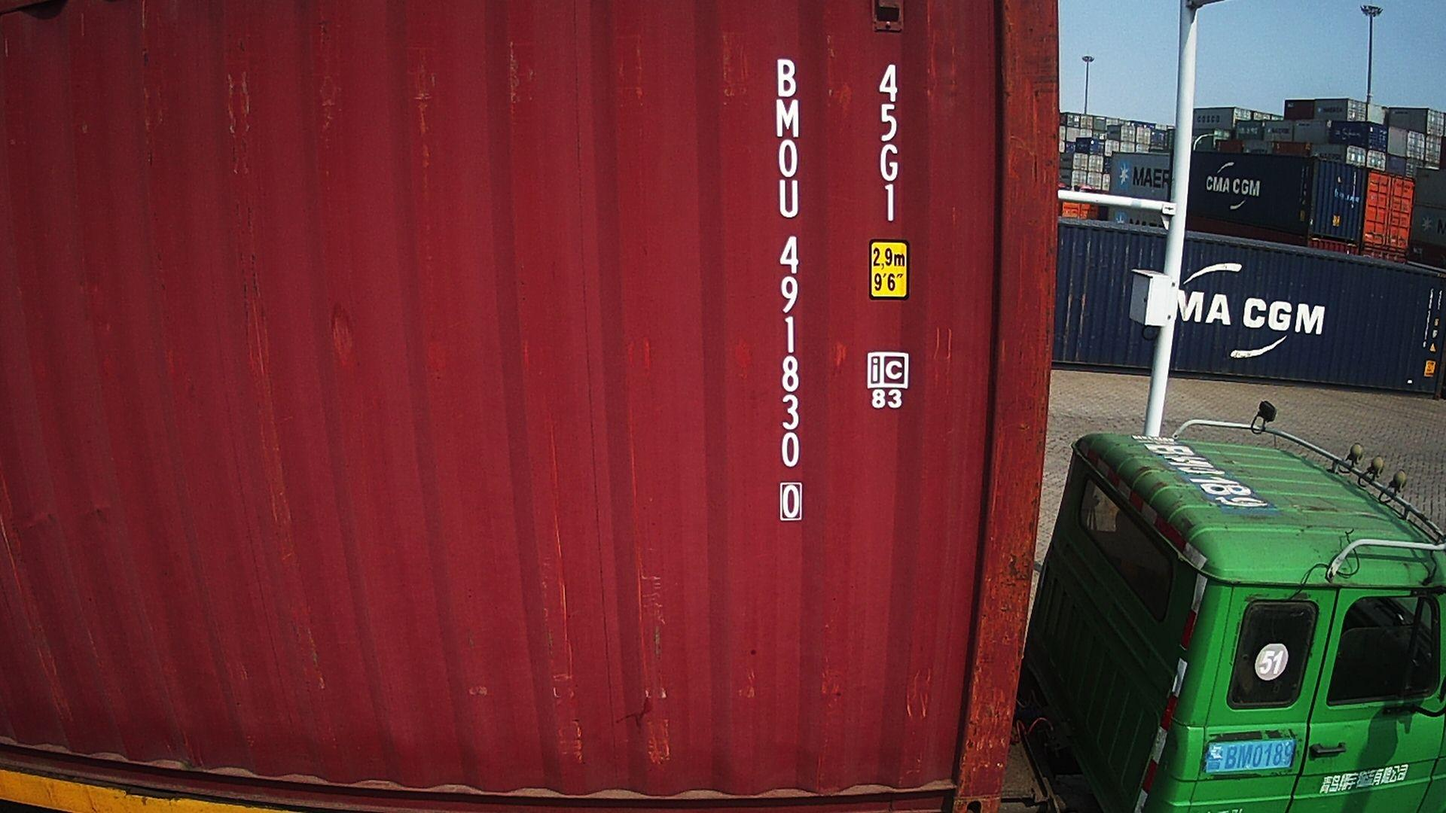container-numbers: (768, 53, 807, 528), (874, 60, 906, 224)
